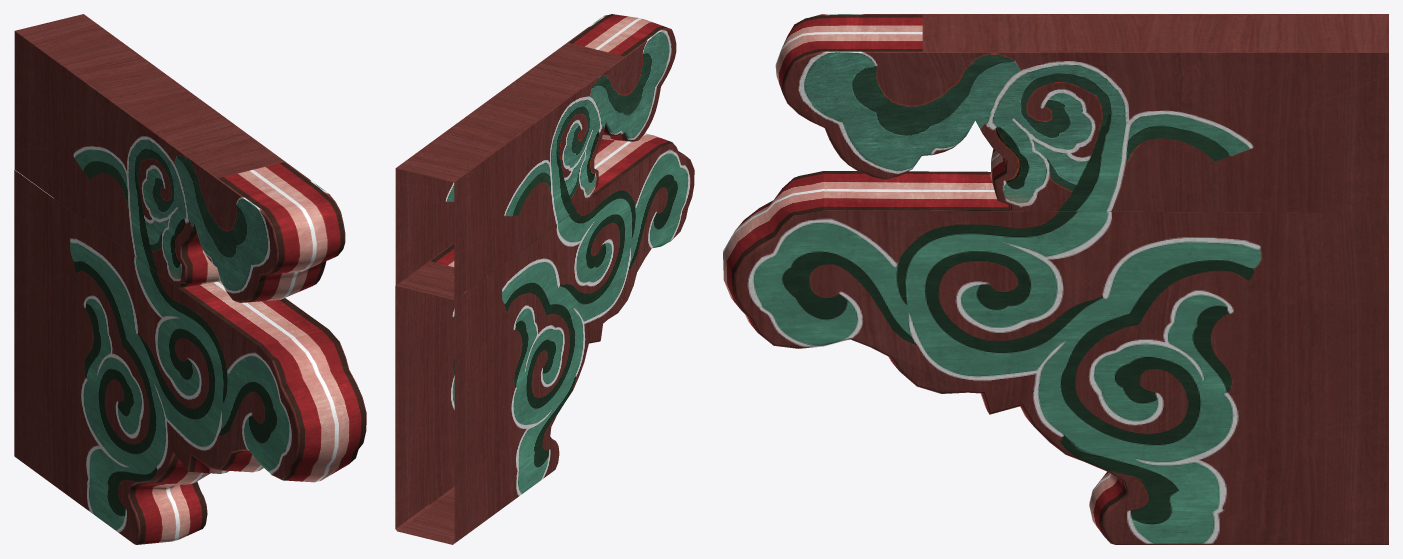
The model's file is SM_Gongpo03B.fbx.
3 views of the same model, side by side, from view 1: azimuth 30°, elevation 25°; view 2: azimuth 150°, elevation 25°; view 3: azimuth 270°, elevation 25° (orthographic). The views are drawn at different scales.
Visible parts, largest first — view 1: SM_Gongpo03B; view 2: SM_Gongpo03B; view 3: SM_Gongpo03B.
Boxes of the visible parts, box(x1,y1,x2,y2) form: SM_Gongpo03B: box(14, 14, 366, 544); SM_Gongpo03B: box(395, 14, 694, 544); SM_Gongpo03B: box(723, 14, 1388, 544).
Bounding box in the file's own units: 9.14 × 65.4 × 53.46.
Materials: 1 (1 with a texture image).
